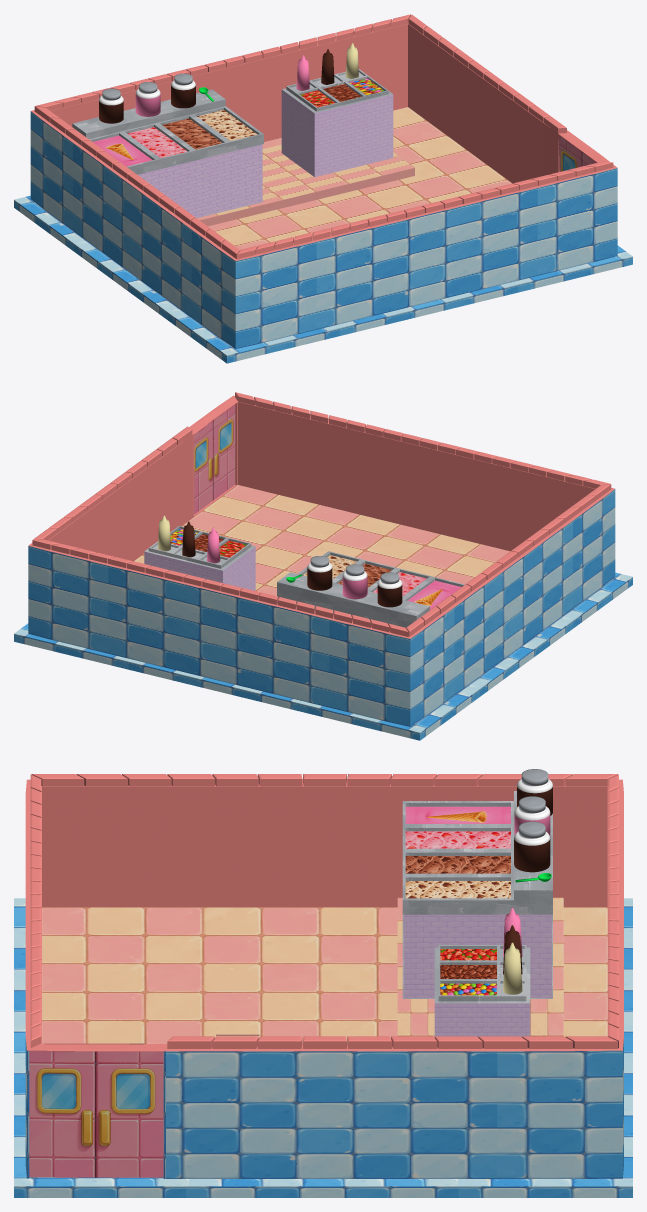
File: cenario.glb
3 renders of one model, top to bottom at view 1: azimuth 30°, elevation 25°; view 2: azimuth 150°, elevation 25°; view 3: azimuth 270°, elevation 25°, orthographic. The views are drawn at different scales.
Parts seen in each view (by area): view 1: Cube, Cube.001, Cube.046, Plane, Plane.001, Cube.003, Cube.005, Cube.051; view 2: Cube, Plane, Cube.001, Cube.046, Cube.051, Cube.005, Cube.003; view 3: Cube, Cube.001, Plane, Cube.046, Plane.001, Cube.005, Cube.051, Cube.003, Cube.049.
Part boxes in pixels (x1,y1,x2,y2): Cube: (30, 14, 617, 348); Cube.001: (72, 89, 263, 217); Cube.046: (281, 69, 393, 177); Plane: (14, 195, 632, 363); Plane.001: (197, 144, 414, 226); Cube.003: (135, 82, 160, 116); Cube.005: (171, 73, 195, 108); Cube.051: (99, 88, 123, 123); Cube: (28, 392, 615, 726); Plane: (14, 572, 632, 740); Cube.001: (277, 551, 464, 628); Cube.046: (144, 526, 255, 590); Cube.051: (377, 572, 402, 607); Cube.005: (307, 556, 332, 590); Cube.003: (342, 564, 367, 599); Cube: (25, 774, 623, 1178); Cube.001: (402, 791, 552, 998); Plane: (14, 898, 632, 1197); Cube.046: (434, 945, 530, 1037); Plane.001: (397, 897, 563, 1037); Cube.005: (514, 821, 550, 872); Cube.051: (517, 769, 552, 815); Cube.003: (514, 796, 550, 837); Cube.049: (503, 942, 522, 994).
Size of the model in its own units: 5.08 by 1.5 by 4.61.
Materials: 19 (13 with a texture image).
